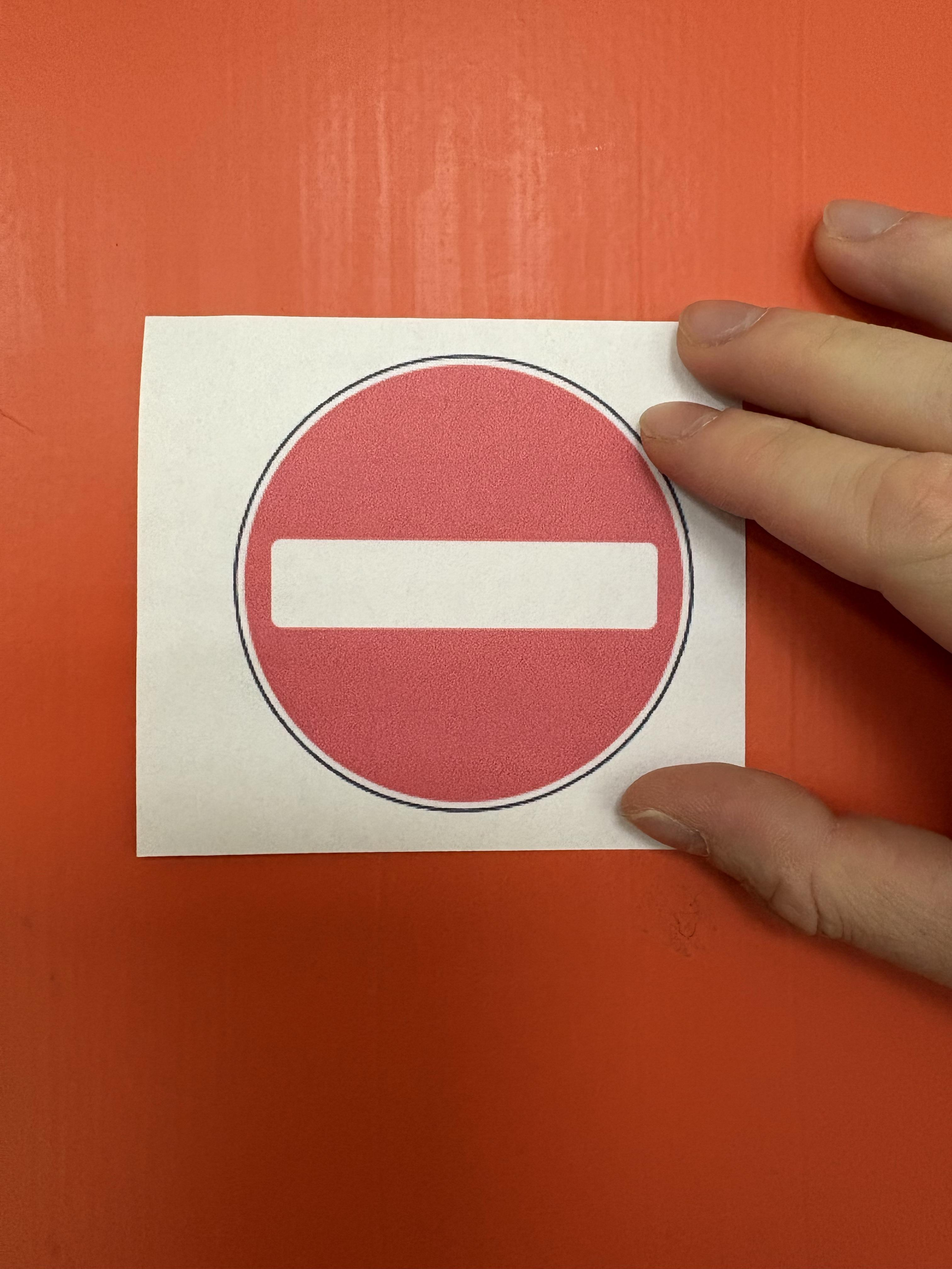No Entry: (101, 422, 560, 1146)
